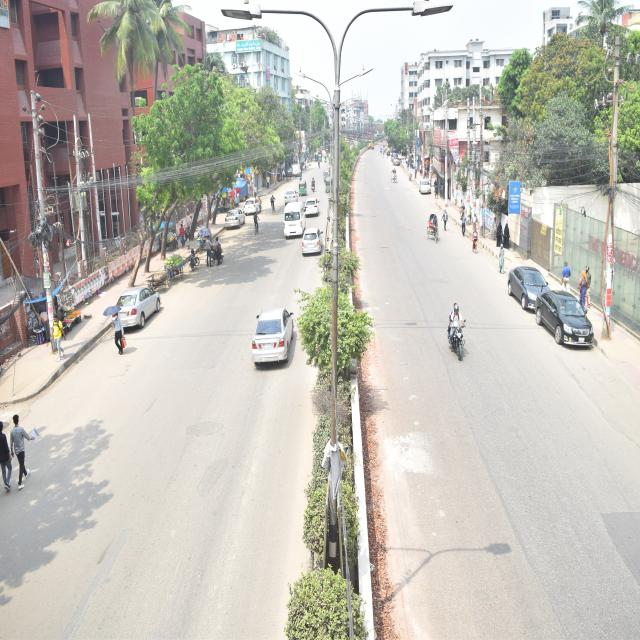car: (536, 288, 600, 350), (250, 307, 300, 370), (111, 282, 166, 332), (506, 264, 556, 306), (222, 202, 246, 234), (302, 226, 322, 259), (240, 193, 264, 217), (304, 194, 322, 220), (417, 174, 432, 198), (281, 186, 300, 204)
microbus: (280, 200, 307, 242)
motorbike: (442, 304, 469, 366), (200, 240, 226, 268)
